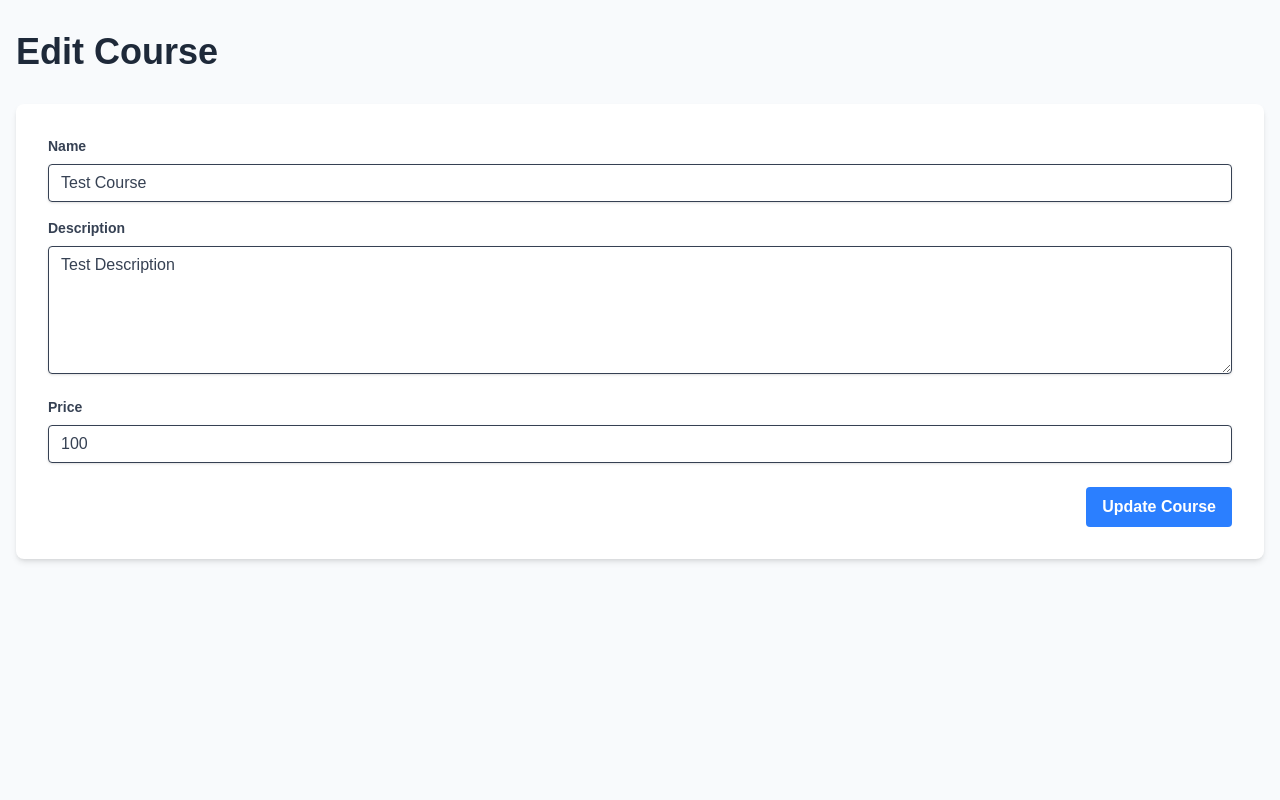
Test: EditCoursePage › shows an error message on submission failure
The width and height of the screenshot is (1280, 800).
Expected: the field labelled "Name" holds "Test Course", 48,164 -> 1232,202
Click the button "Update Course" at (1159, 507), box 1086,487 -> 1232,527
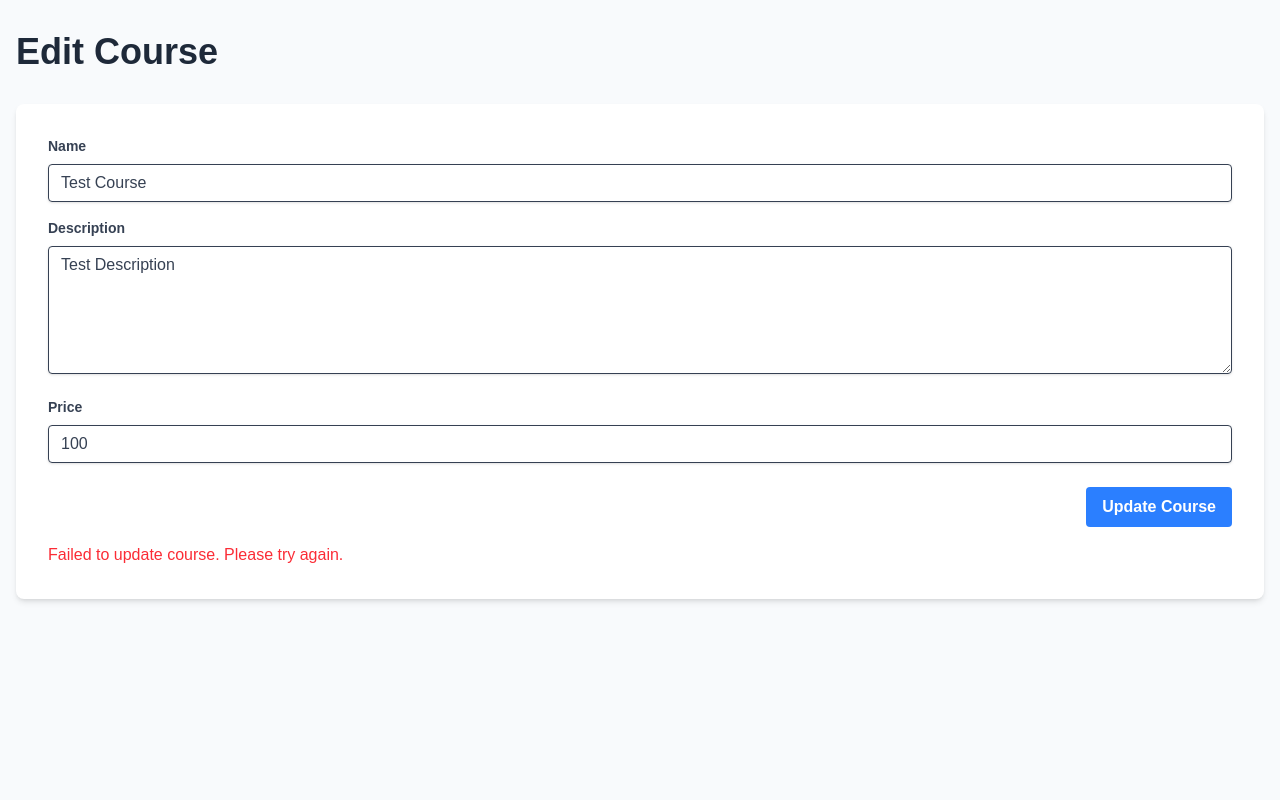
Expected: the text "Failed to update course. Please try again." is shown, 48,546 -> 343,563
